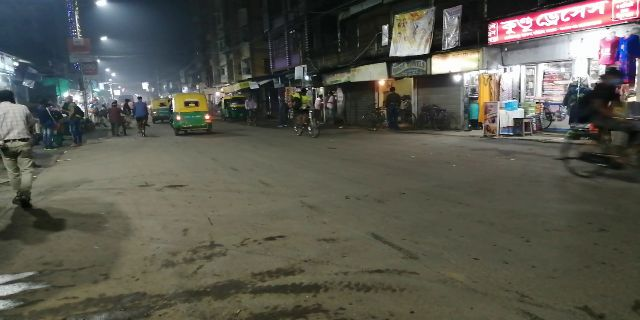Autorickshaw: (170, 87, 214, 137), (149, 97, 174, 123)
Cycle: (561, 74, 640, 187)
